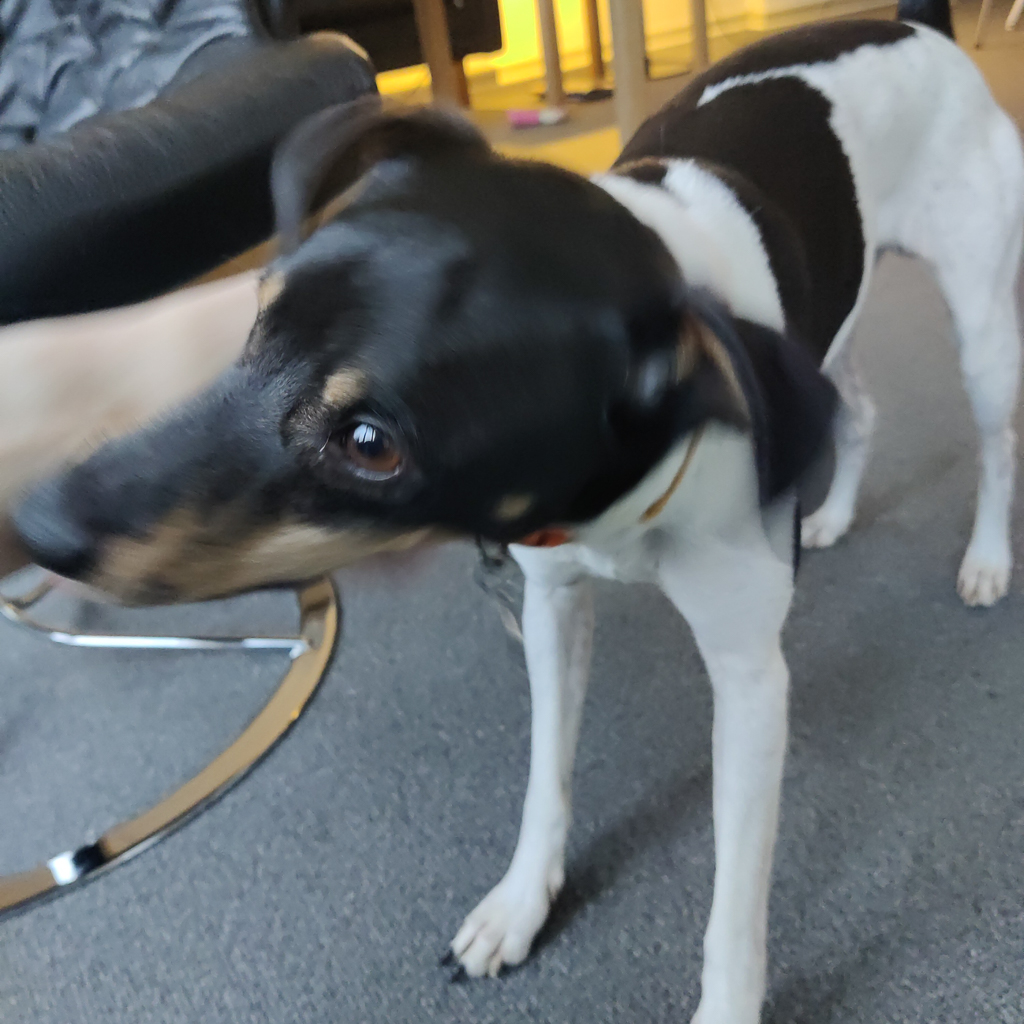Dog: (5, 0, 1024, 1024)
Humanoid: (0, 214, 337, 600)
